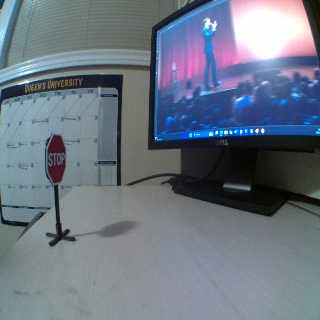sign_stop: (45, 133, 65, 183)
